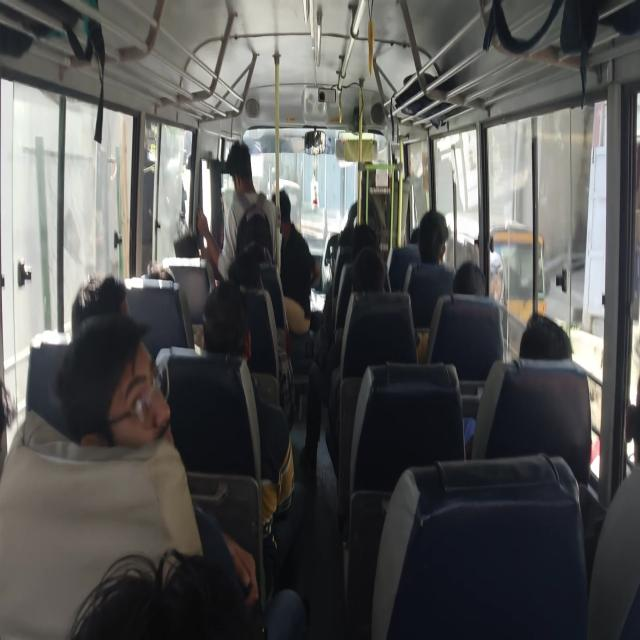person: (55, 311, 306, 638), (198, 279, 298, 582), (299, 245, 386, 478), (462, 312, 572, 457), (196, 139, 280, 283), (403, 209, 456, 359), (416, 260, 486, 363), (271, 188, 313, 336), (71, 273, 130, 341), (518, 312, 572, 361), (417, 209, 449, 265), (452, 260, 486, 296)
